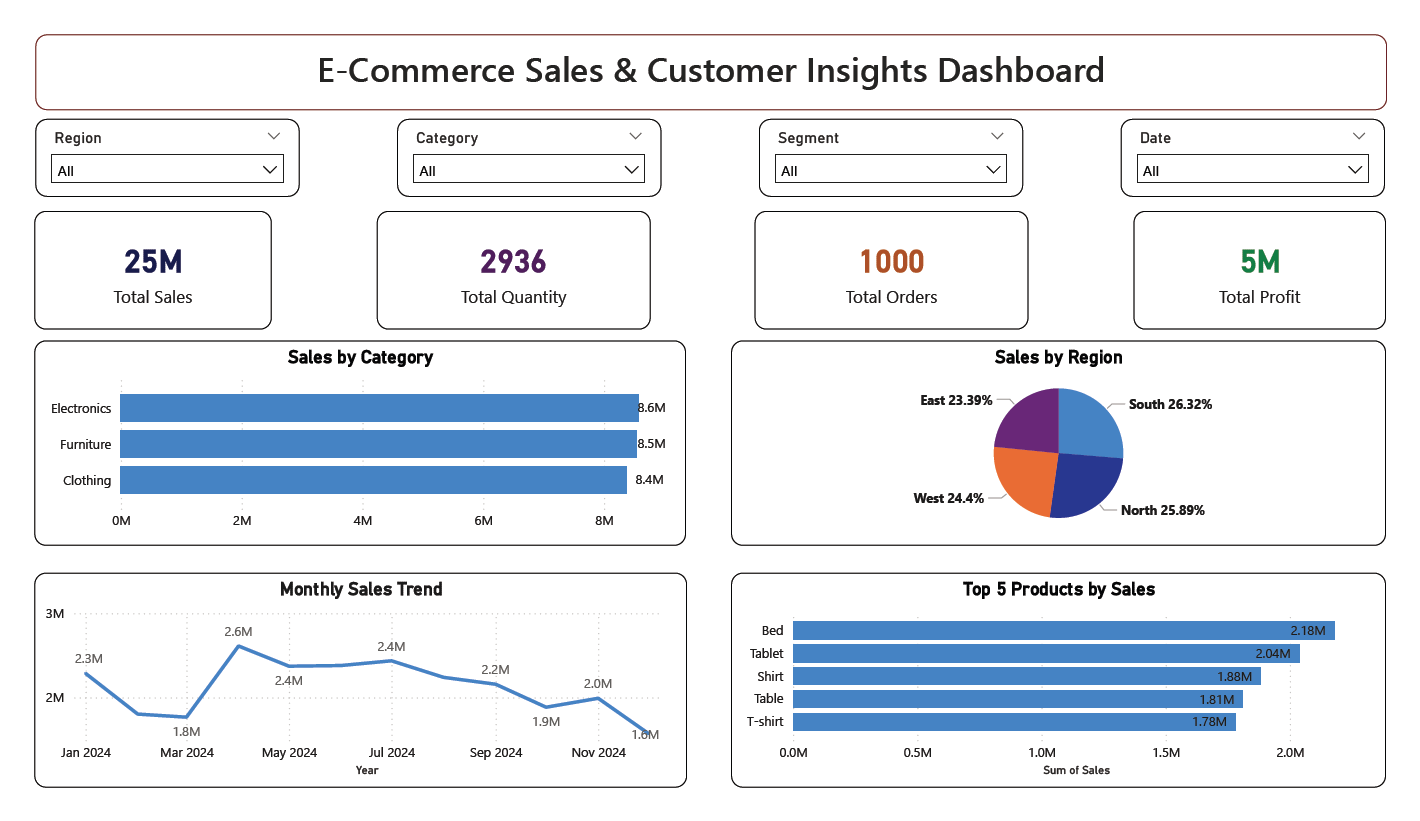

What the dashboard file says about the page in this screenshot:
{"tool":"powerbi","page":{"name":"Dashboard","canvas":[1280,720],"ordinal":0},"visuals":[{"type":"card","fields":{"Values":["Sum(Ecommerce_1000_Rows_Dataset.Sales)"]},"box":[7.9,173.5,222.1,110.5],"z":0},{"type":"textbox","box":[9.3,8.1,1262.8,70.9],"z":1000},{"type":"card","fields":{"Values":["Sum(Ecommerce_1000_Rows_Dataset.Profit)"]},"box":[1034.7,173.5,236,110.5],"z":2000},{"type":"card","fields":{"Values":["CountNonNull(Ecommerce_1000_Rows_Dataset.OrderID)"]},"box":[681.2,173.5,255.8,110.5],"z":3000},{"type":"clusteredBarChart","title":"Sales by Category","fields":{"Category":["Ecommerce_1000_Rows_Dataset.Category"],"Y":["Sum(Ecommerce_1000_Rows_Dataset.Sales)"]},"box":[7.9,294.4,609.3,191.9],"z":4000},{"type":"pieChart","title":"Sales by Region","fields":{"Category":["Ecommerce_1000_Rows_Dataset.Region"],"Y":["Sum(Ecommerce_1000_Rows_Dataset.Sales)"]},"box":[659.1,294.4,611.6,191.9],"z":5000},{"type":"lineChart","title":"Monthly Sales Trend","fields":{"Category":["Ecommerce_1000_Rows_Dataset.Date.Variation.Date Hierarchy.Year","Ecommerce_1000_Rows_Dataset.Date.Variation.Date Hierarchy.Month"],"Y":["Sum(Ecommerce_1000_Rows_Dataset.Sales)"]},"box":[8.2,511.3,609.3,200.3],"z":6000},{"type":"card","fields":{"Values":["Sum(Ecommerce_1000_Rows_Dataset.Quantity)"]},"box":[327.7,173.5,255.8,110.5],"z":7000},{"type":"clusteredBarChart","title":"Top 5 Products by Sales","fields":{"Category":["Ecommerce_1000_Rows_Dataset.SubCategory"],"Y":["Sum(Ecommerce_1000_Rows_Dataset.Sales)"]},"box":[658.7,511.3,612,200.3],"z":8000},{"type":"slicer","fields":{"Values":["Ecommerce_1000_Rows_Dataset.Region"]},"box":[9.3,87.2,246.5,73.3],"z":9000},{"type":"slicer","fields":{"Values":["Ecommerce_1000_Rows_Dataset.Category"]},"box":[347.3,87.2,246.5,73.3],"z":10000},{"type":"slicer","fields":{"Values":["Ecommerce_1000_Rows_Dataset.Segment"]},"box":[685.3,87.2,246.5,73.3],"z":11000},{"type":"slicer","fields":{"Values":["Ecommerce_1000_Rows_Dataset.Date"]},"box":[1023.3,87.2,246.5,73.3],"z":12000}]}

Visuals, with their boxes in screenshot pixels (x1, y1, x2, y2), scaled from the page's 1280x720 canvas onto the 1420x821 screenshot:
card - Sum(Ecommerce_1000_Rows_Dataset.Sales): <region>9, 198, 255, 324</region>
textbox: <region>10, 9, 1411, 90</region>
card - Sum(Ecommerce_1000_Rows_Dataset.Profit): <region>1148, 198, 1410, 324</region>
card - CountNonNull(Ecommerce_1000_Rows_Dataset.OrderID): <region>756, 198, 1039, 324</region>
"Sales by Category" clusteredBarChart: <region>9, 336, 685, 555</region>
"Sales by Region" pieChart: <region>731, 336, 1410, 555</region>
"Monthly Sales Trend" lineChart: <region>9, 583, 685, 811</region>
card - Sum(Ecommerce_1000_Rows_Dataset.Quantity): <region>364, 198, 647, 324</region>
"Top 5 Products by Sales" clusteredBarChart: <region>731, 583, 1410, 811</region>
slicer - Ecommerce_1000_Rows_Dataset.Region: <region>10, 99, 284, 183</region>
slicer - Ecommerce_1000_Rows_Dataset.Category: <region>385, 99, 659, 183</region>
slicer - Ecommerce_1000_Rows_Dataset.Segment: <region>760, 99, 1034, 183</region>
slicer - Ecommerce_1000_Rows_Dataset.Date: <region>1135, 99, 1409, 183</region>
